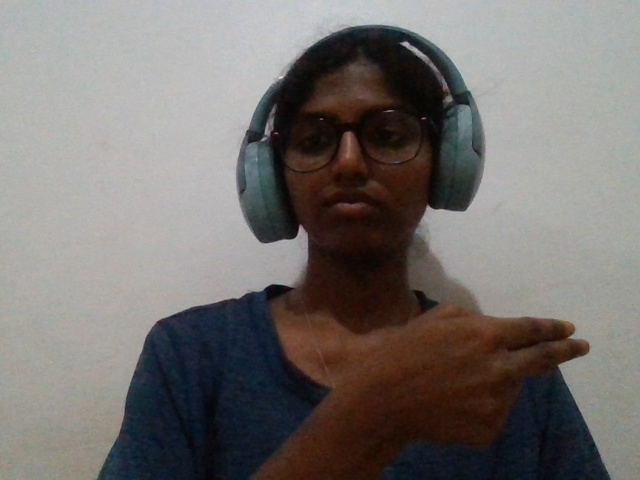H: (307, 271, 594, 480)
